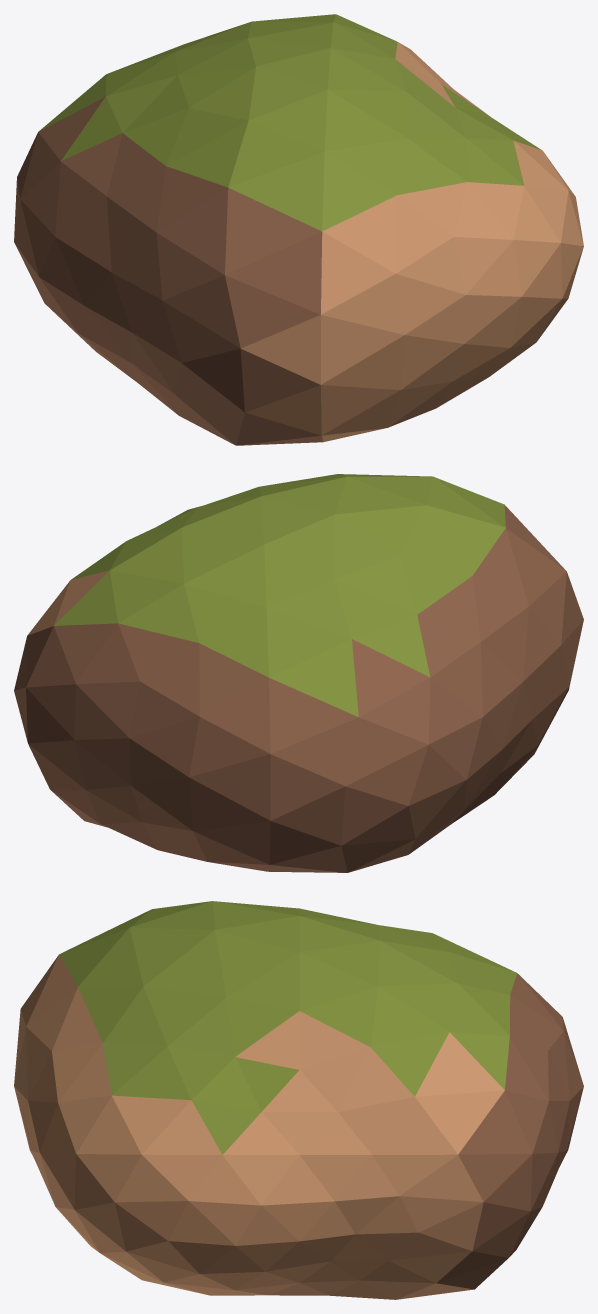
Rendered from rock_b.glb.
3 views of the same model, one above another, from view 1: azimuth 30°, elevation 25°; view 2: azimuth 150°, elevation 25°; view 3: azimuth 270°, elevation 25° (orthographic). The views are drawn at different scales.
Visible parts, largest first — view 1: main__rock_body_flat, main__rock_moss_flat, main__rock_light_flat; view 2: main__rock_body_flat, main__rock_moss_flat, main__rock_light_flat; view 3: main__rock_light_flat, main__rock_moss_flat, main__rock_body_flat.
Boxes of the visible parts, bbox=[...] form: main__rock_body_flat: bbox=[14, 97, 322, 445]; main__rock_moss_flat: bbox=[39, 14, 541, 231]; main__rock_light_flat: bbox=[241, 42, 583, 441]; main__rock_body_flat: bbox=[14, 505, 583, 872]; main__rock_moss_flat: bbox=[54, 474, 505, 716]; main__rock_light_flat: bbox=[27, 570, 108, 635]; main__rock_light_flat: bbox=[14, 955, 504, 1299]; main__rock_moss_flat: bbox=[59, 901, 516, 1154]; main__rock_body_flat: bbox=[436, 973, 583, 1289].
Bounding box in the file's own units: 3.27 × 2.04 × 3.62.
